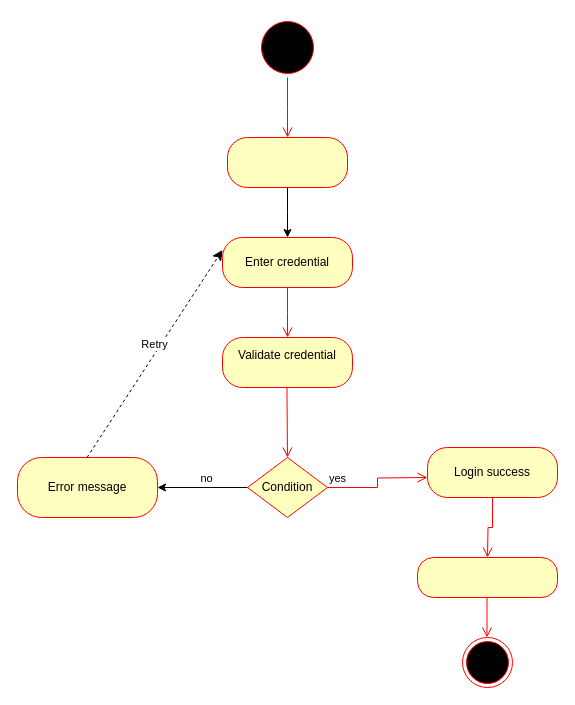
This 575x705 diagram has some shape labels left out. Here are the shapes that lost their labels. From the top down, the centre of each, then its label:
At (287,162): "Open login page".
At (487,577): "Dashboard".
